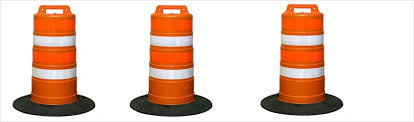barrel: (31, 4, 79, 105), (151, 4, 195, 103), (280, 3, 324, 102)
